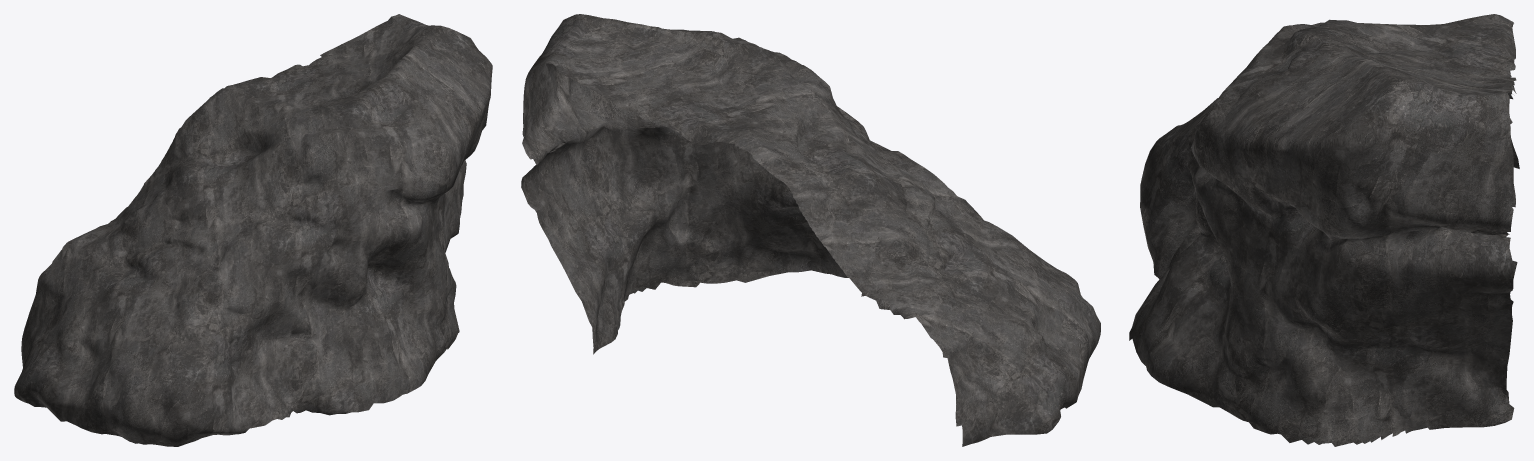
File: Cliff_Wall_Modular_Big_004.fbx
3 renders of one model, left to right at view 1: azimuth 30°, elevation 25°; view 2: azimuth 150°, elevation 25°; view 3: azimuth 270°, elevation 25°, orthographic. The views are drawn at different scales.
Visible parts, largest first — view 1: Cliff_Wall_Modular_Big_004_LOD0; view 2: Cliff_Wall_Modular_Big_004_LOD0; view 3: Cliff_Wall_Modular_Big_004_LOD0.
Part boxes in pixels (bbox=[...]): Cliff_Wall_Modular_Big_004_LOD0: bbox=[14, 14, 492, 446]; Cliff_Wall_Modular_Big_004_LOD0: bbox=[521, 14, 1100, 446]; Cliff_Wall_Modular_Big_004_LOD0: bbox=[1129, 14, 1519, 446].
Size of what is drawn, in the model's own units: 27.13 by 15.56 by 14.39.
